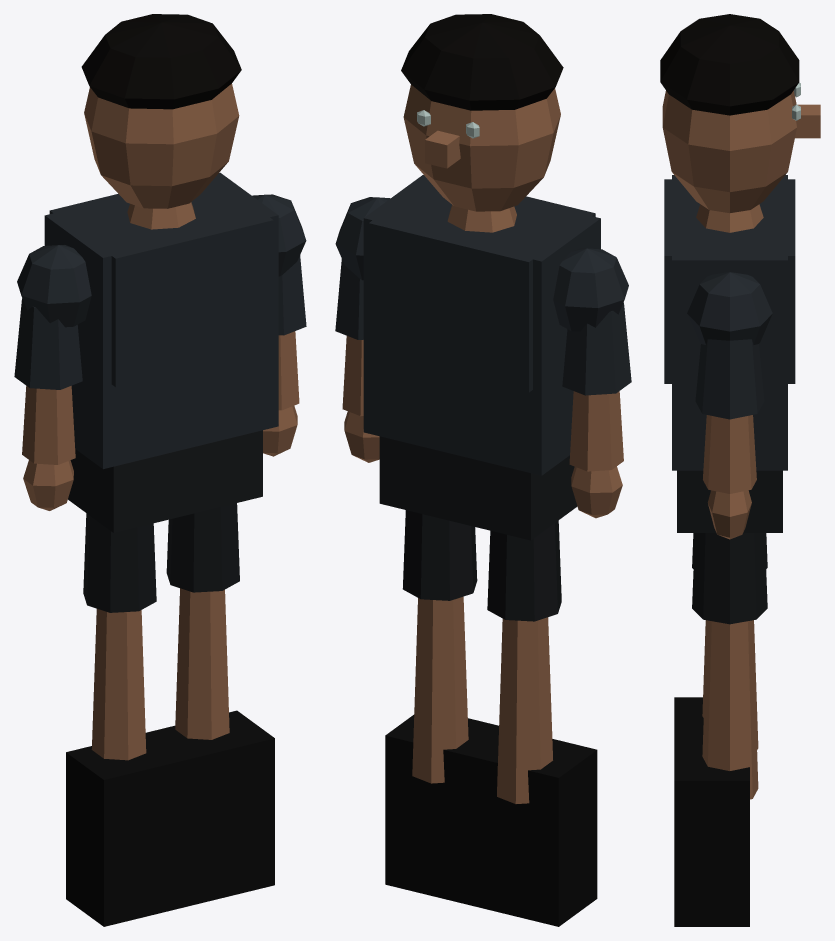
The model's file is human_ps1_v1.obj.
The picture shows the model from 3 angles, left to right: view 1: azimuth 30°, elevation 25°; view 2: azimuth 150°, elevation 25°; view 3: azimuth 270°, elevation 25°; orthographic projection.
Parts seen in each view (by area): view 1: Boot, Torso, Chest, Shin, Head, Pelvis, Hair, Thigh, Shoulder, UpperArm, Forearm, Hand (+1 smaller); view 2: Boot, Torso, Chest, Shin, Pelvis, Head, Hair, Thigh, Shoulder, UpperArm, Forearm, Hand (+2 smaller); view 3: Torso, Boot, Head, Hair, Shin, Thigh, UpperArm, Shoulder, Chest, Pelvis, Forearm, Hand (+2 smaller).
Part boxes in pixels (bbox=[...]): Boot: bbox=[66, 710, 274, 926]; Torso: bbox=[44, 172, 278, 469]; Chest: bbox=[49, 177, 273, 387]; Shin: bbox=[91, 588, 229, 760]; Head: bbox=[84, 83, 239, 208]; Pelvis: bbox=[68, 430, 262, 532]; Hair: bbox=[81, 14, 241, 109]; Thigh: bbox=[83, 503, 239, 612]; Shoulder: bbox=[17, 194, 306, 327]; UpperArm: bbox=[14, 255, 306, 389]; Forearm: bbox=[22, 331, 299, 464]; Hand: bbox=[23, 406, 297, 510]; Boot: bbox=[385, 714, 597, 926]; Torso: bbox=[363, 175, 600, 475]; Chest: bbox=[368, 180, 595, 392]; Shin: bbox=[412, 596, 552, 803]; Pelvis: bbox=[379, 436, 577, 540]; Head: bbox=[403, 84, 560, 211]; Hair: bbox=[401, 14, 563, 110]; Thigh: bbox=[402, 510, 561, 621]; Shoulder: bbox=[335, 197, 628, 331]; UpperArm: bbox=[335, 259, 631, 395]; Forearm: bbox=[342, 336, 623, 471]; Hand: bbox=[344, 411, 622, 518]; Torso: bbox=[672, 175, 787, 470]; Boot: bbox=[674, 697, 749, 926]; Head: bbox=[662, 91, 796, 213]; Hair: bbox=[660, 14, 799, 115]; Shin: bbox=[702, 620, 758, 799]; Thigh: bbox=[692, 533, 767, 624]; UpperArm: bbox=[695, 339, 764, 419]; Shoulder: bbox=[687, 272, 772, 344]; Chest: bbox=[664, 179, 795, 383]; Pelvis: bbox=[677, 470, 782, 532]; Forearm: bbox=[703, 415, 756, 493]; Hand: bbox=[707, 490, 751, 539].
Bounding box in the file's own units: 0.645 × 1.88 × 0.3179.
